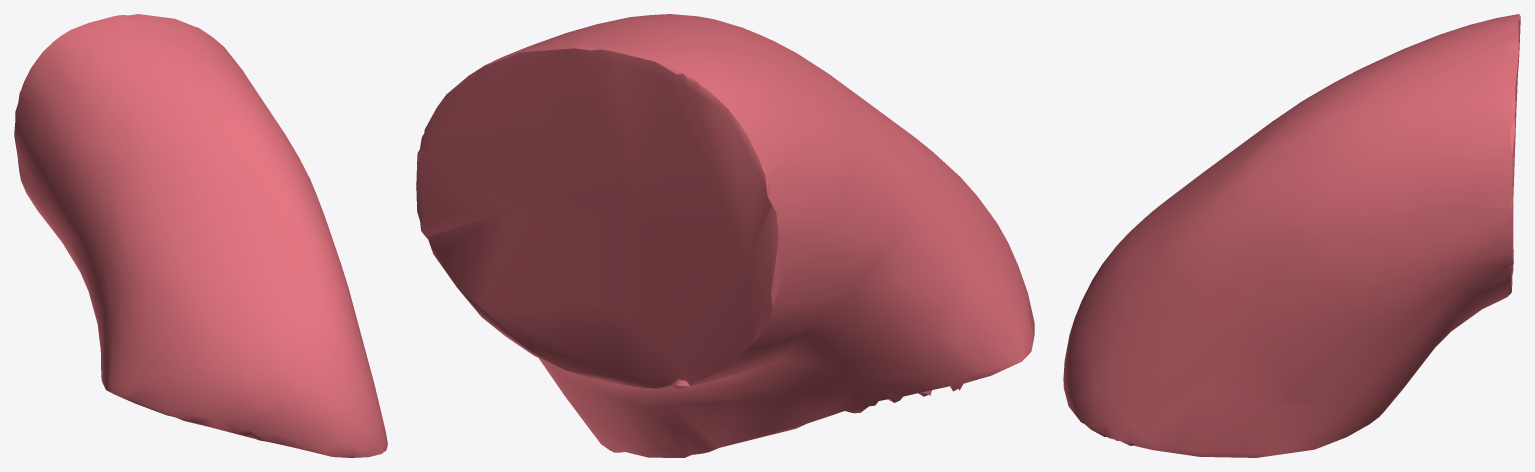
File: fma8612_fj2966.glb
3 views of the same model, side by side, from view 1: azimuth 30°, elevation 25°; view 2: azimuth 150°, elevation 25°; view 3: azimuth 270°, elevation 25° (orthographic). The views are drawn at different scales.
Parts seen in each view (by area): view 1: FMA8612_FJ2966; view 2: FMA8612_FJ2966; view 3: FMA8612_FJ2966.
Boxes of the visible parts, bbox=[...] form: FMA8612_FJ2966: bbox=[14, 14, 387, 457]; FMA8612_FJ2966: bbox=[416, 14, 1034, 457]; FMA8612_FJ2966: bbox=[1063, 14, 1520, 457].
Bounding box in the file's own units: 0.0308 × 0.0371 × 0.0423.
